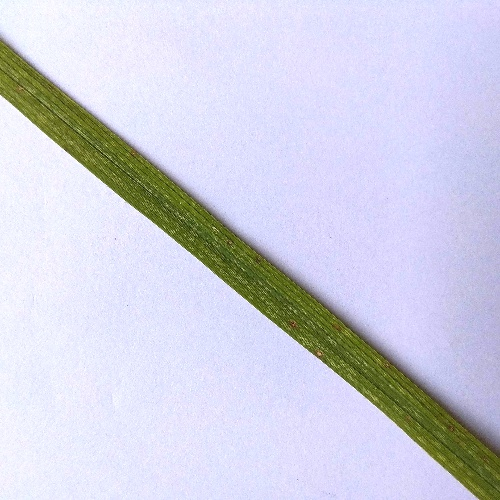Busuk Leher: (281, 313, 302, 333), (312, 343, 328, 362)
